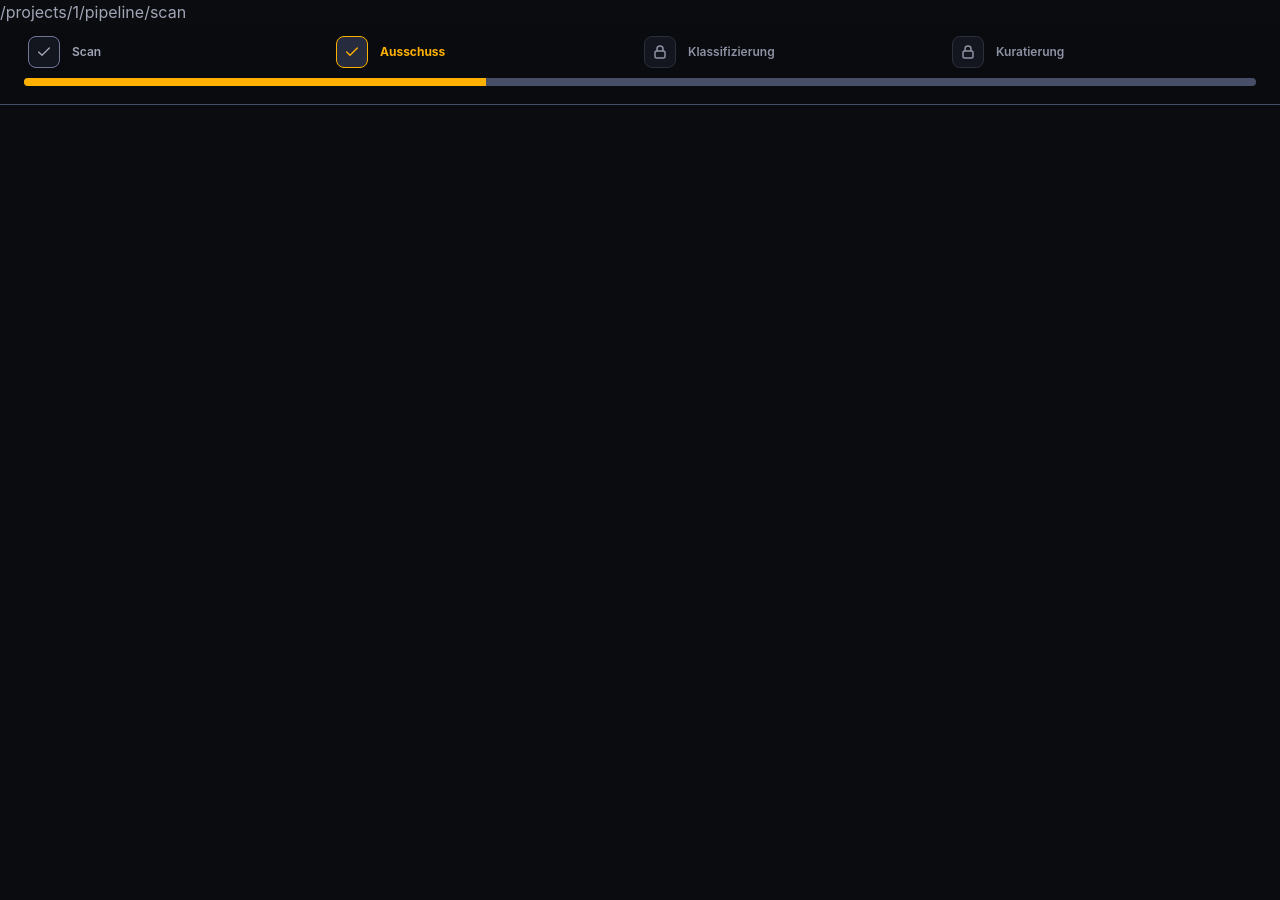
Test: Stepper › shows the feature-flag-off reason for a blocked kriterien step
This screenshot has width=1280, height=900.
Click the button with aria-label "Schritt 3 von 4: Klassifizierung, gesperrt": (660, 52) [640,36,948,68]
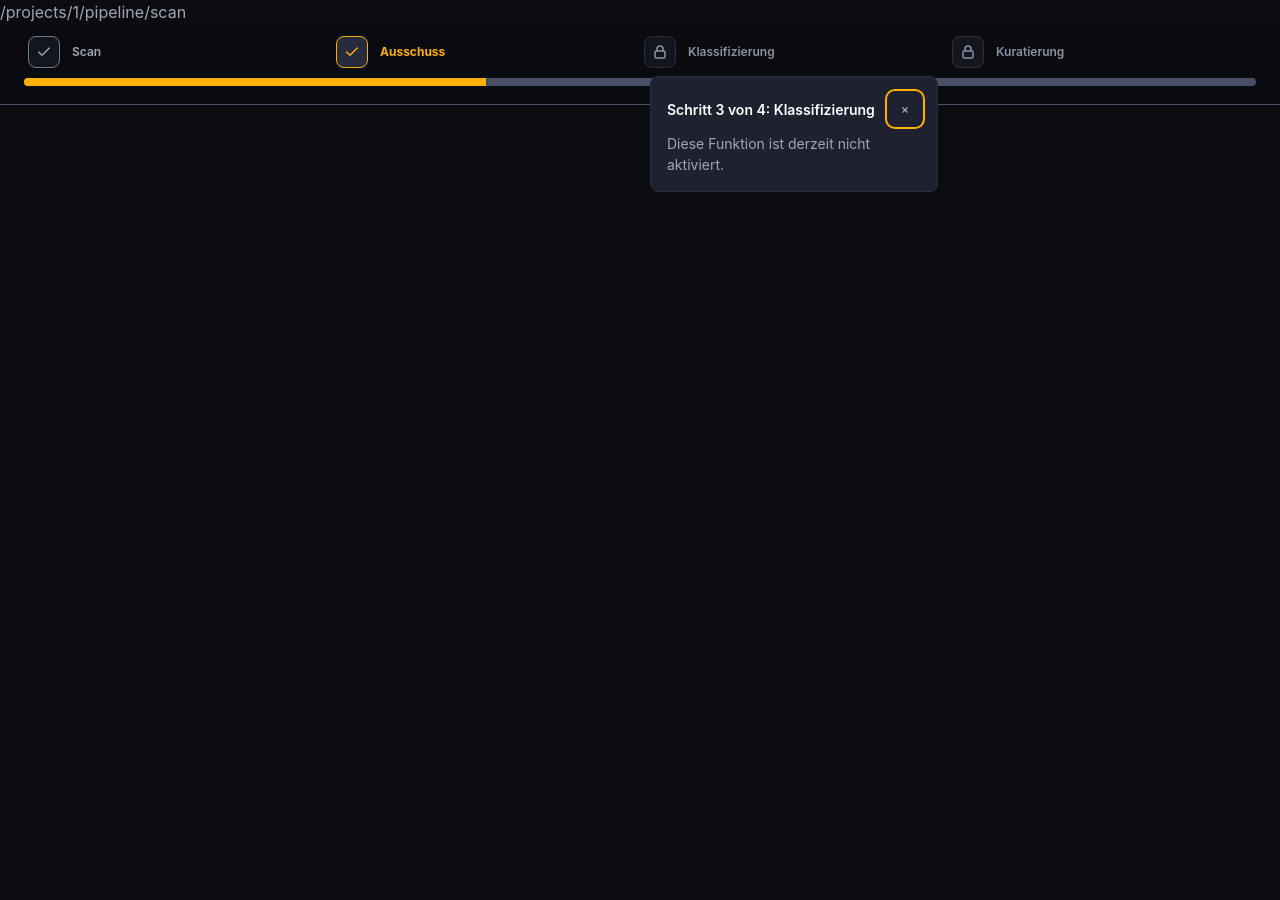
Check: the text "Diese Funktion ist derzeit nicht aktiviert." is shown, box [667,135,870,173]
